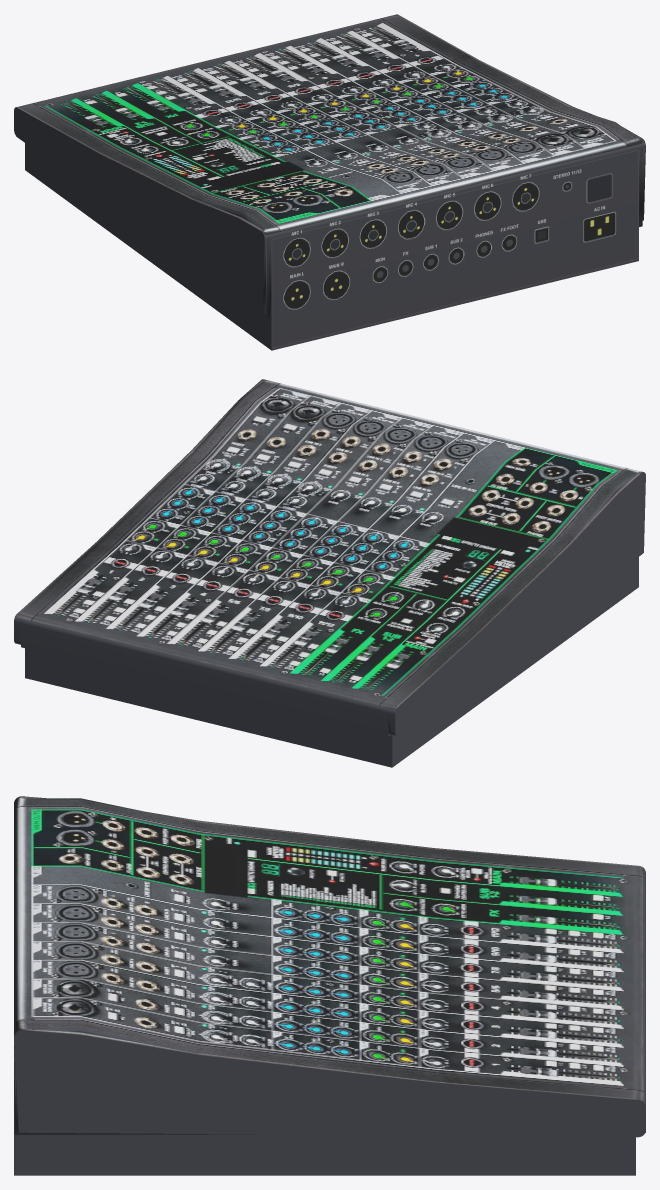
Rendered from mackie-profx12v3.glb.
3 views of the same model, one above another, from view 1: azimuth 30°, elevation 25°; view 2: azimuth 150°, elevation 25°; view 3: azimuth 270°, elevation 25° (orthographic). The views are drawn at different scales.
Visible parts, largest first — view 1: mackie-profx12v3-body; view 2: mackie-profx12v3-body; view 3: mackie-profx12v3-body.
Part boxes in pixels (box(x1,y1,x2,y2)): mackie-profx12v3-body: box(14, 14, 645, 350); mackie-profx12v3-body: box(14, 379, 645, 767); mackie-profx12v3-body: box(14, 796, 645, 1175).
Size of the model in its own units: 0.33 by 0.102 by 0.376.
Materials: 1 (1 with a texture image).
